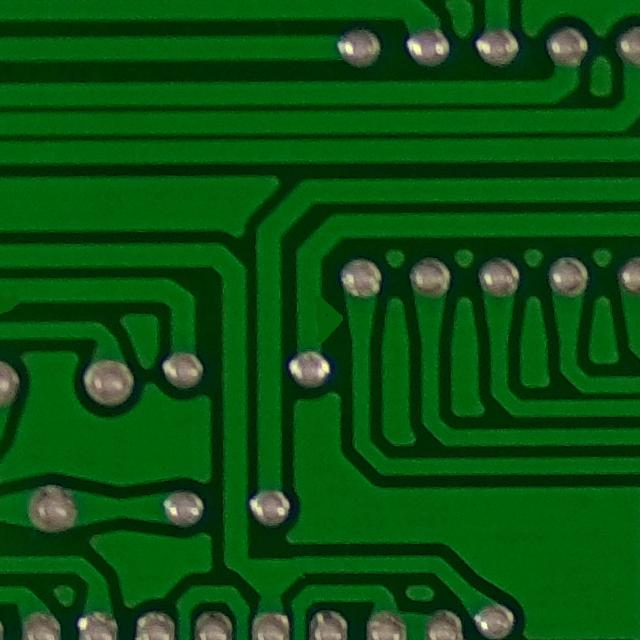spur: (295, 281, 345, 359)
